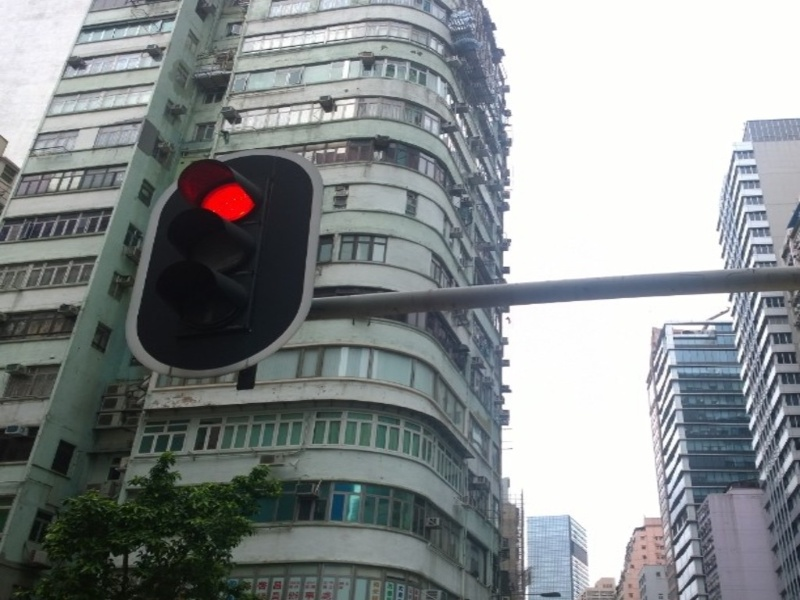red_light: (169, 160, 276, 290)
